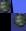grenade: (11, 13, 26, 31), (0, 0, 11, 13)
